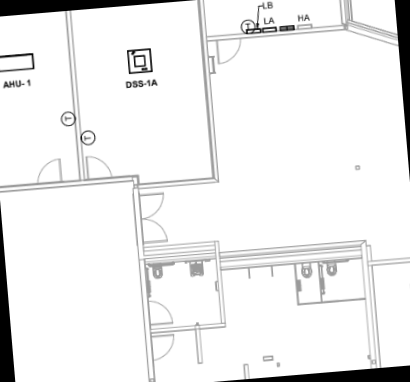door: (213, 36, 245, 66), (33, 157, 65, 184), (146, 297, 175, 326), (150, 332, 178, 362), (83, 153, 114, 180)
double door: (137, 190, 172, 245)
